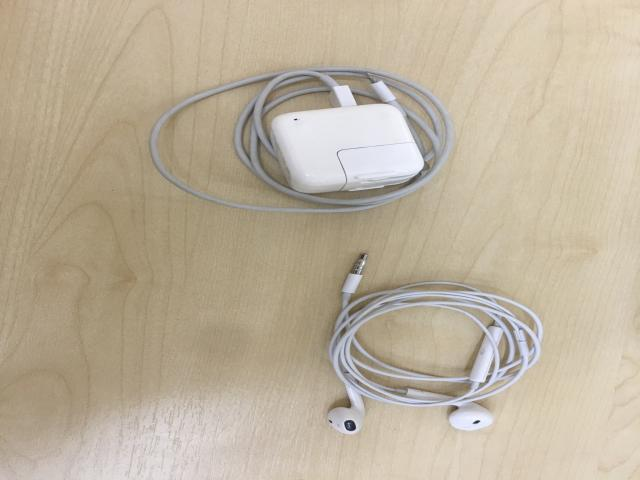wire: (326, 256, 542, 436), (224, 70, 454, 213)
